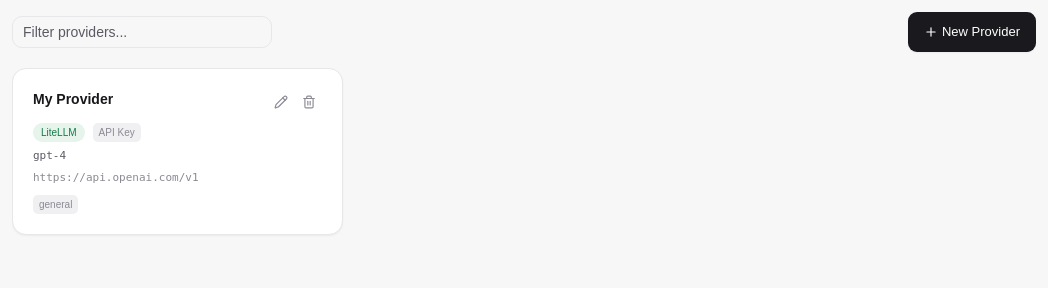
Test: ProviderList › opens form in edit mode on Edit click
The image size is (1048, 288).
What coordinates should you click on to do the following:
click the button named "edit"
I would click on:
 (281, 102)
Its box is [268, 88, 294, 114].
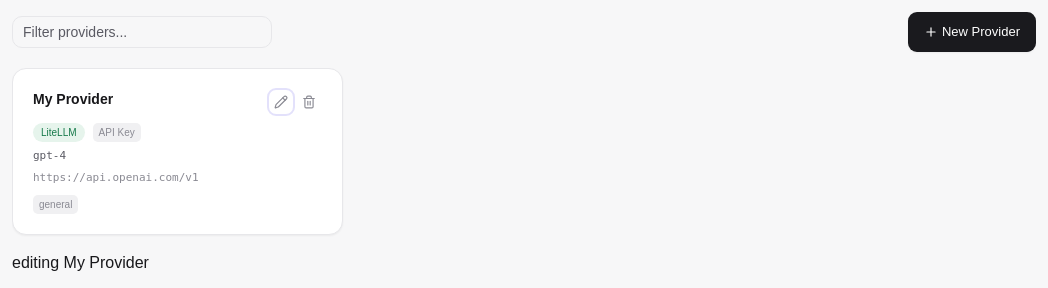
Now the text "editing My Provider" is shown, box [12, 254, 149, 270]
